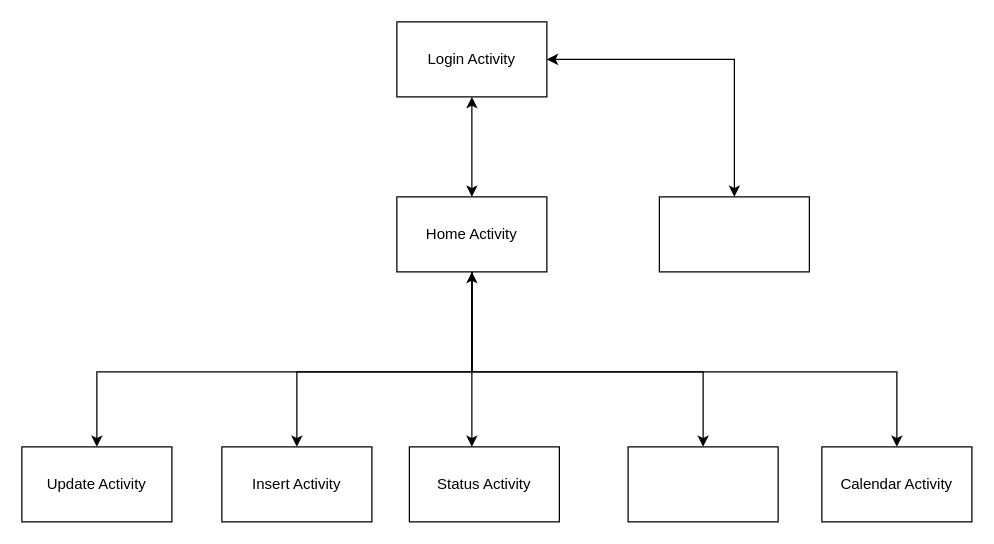
Image size: 994x544. Some labels were removed from this diagram. Here are the shapes that lost their labels. From the top down, the box of each, then its label:
(658, 196, 809, 272): Register Activity
(627, 446, 778, 522): Profile Activity
